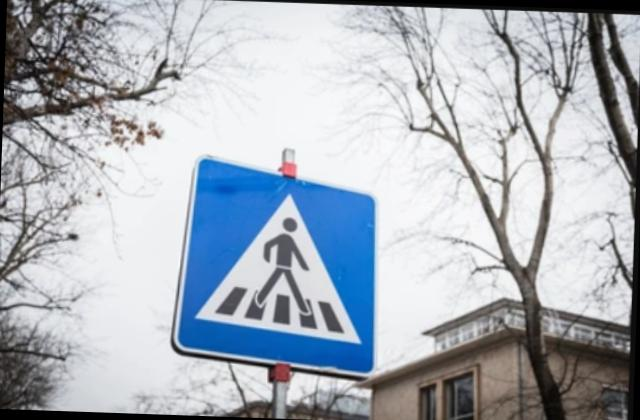crosswalk-sign: (170, 152, 384, 381)
